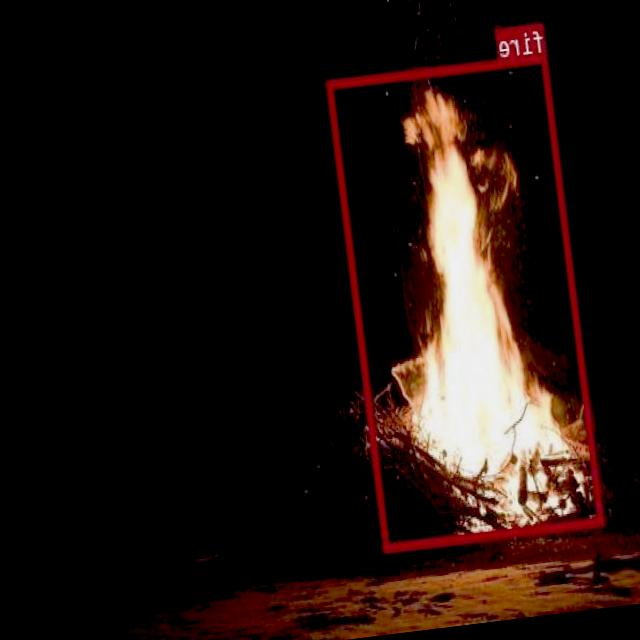fire: (327, 52, 604, 550)
